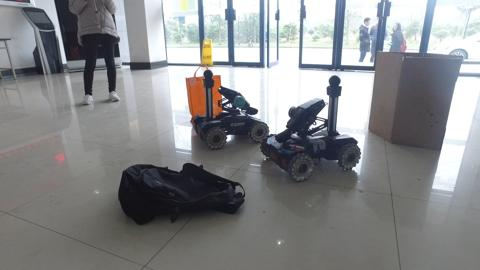bag: (118, 163, 246, 220)
box: (371, 49, 456, 155)
chariot: (261, 73, 362, 183), (191, 69, 267, 150)
